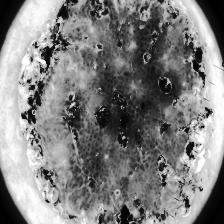Benign Marking or Mole: (18, 0, 212, 224)
